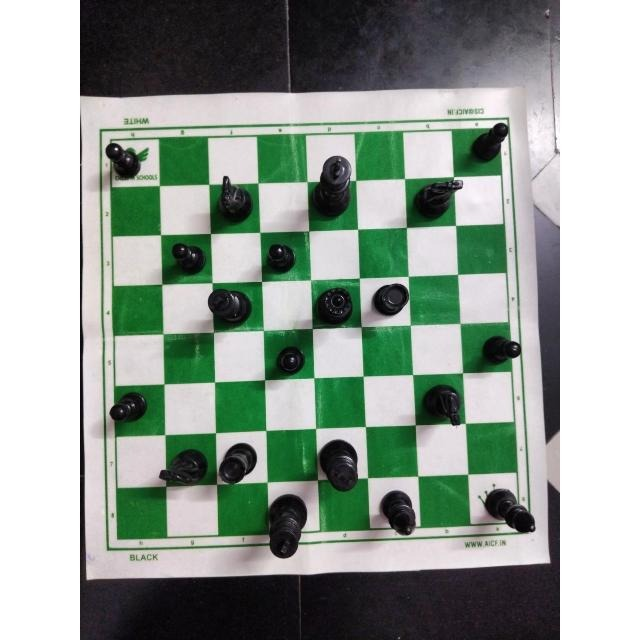black-bishop: (482, 486, 542, 538), (376, 486, 420, 541)
black-king: (260, 488, 307, 560), (311, 151, 355, 217), (316, 434, 364, 493), (203, 286, 253, 328)
black-knight: (409, 173, 469, 225), (210, 170, 254, 226), (421, 378, 467, 429), (155, 449, 211, 489)
black-pawn: (468, 121, 514, 165), (474, 331, 529, 365), (168, 238, 212, 278), (108, 388, 152, 428), (100, 140, 144, 179), (260, 238, 303, 276), (271, 339, 309, 377)
black-queen: (312, 284, 360, 327)
black-rook: (215, 441, 257, 486), (371, 279, 413, 320)
